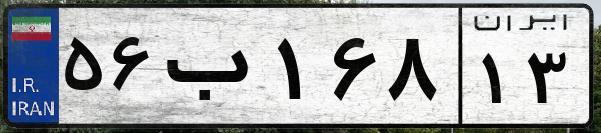1: (270, 28, 330, 110), (475, 38, 525, 113)
3: (525, 38, 570, 115)
5: (57, 26, 110, 100)
6: (330, 28, 385, 110), (110, 28, 158, 98)
8: (385, 28, 445, 110)
ب: (158, 20, 270, 120)
